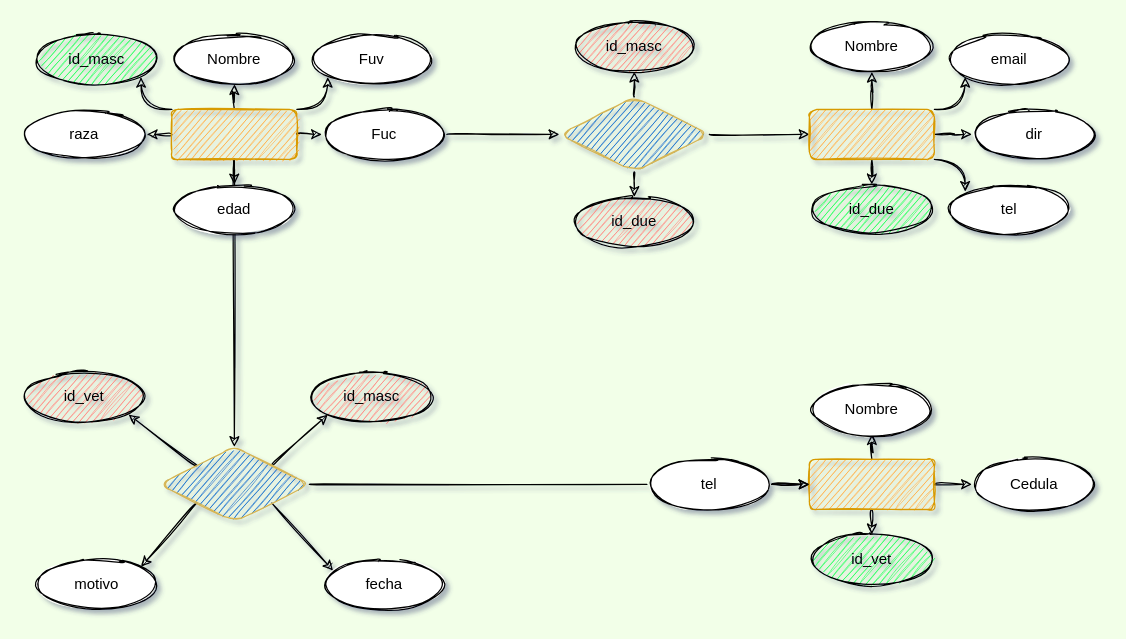
Some shapes in this 1126 by 639 pixel diagram are drawn without their labels. The centre of each missing label's shape, as x and y in pixels:
"Dueño" goes at (x=871, y=133).
"Es atendida" goes at (x=233, y=484).
"Mazcota" goes at (x=234, y=133).
"Pertenece" goes at (x=633, y=134).
"Veterinarios" goes at (x=871, y=483).
